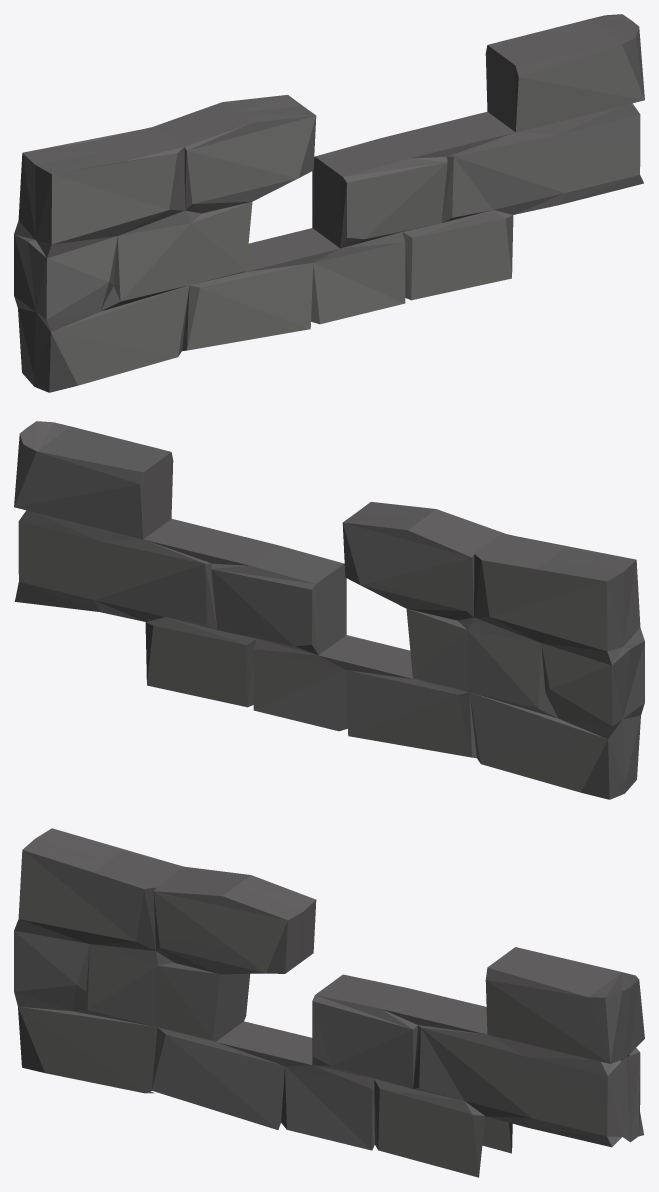
Rendered from SM_Prop_Bricks_03.glb.
3 renders of one model, top to bottom at view 1: azimuth 30°, elevation 25°; view 2: azimuth 150°, elevation 25°; view 3: azimuth 330°, elevation 25°, orthographic.
Parts seen in each view (by area): view 1: SM_Prop_Bricks_03; view 2: SM_Prop_Bricks_03; view 3: SM_Prop_Bricks_03.
Boxes of the visible parts, left/top/right/bottom form: SM_Prop_Bricks_03: left=14, top=14, right=644, bottom=392; SM_Prop_Bricks_03: left=14, top=421, right=644, bottom=799; SM_Prop_Bricks_03: left=14, top=828, right=644, bottom=1177.
Size of the model in its own units: 0.0342 by 0.0122 by 0.00346.
Materials: 1 (1 with a texture image).
